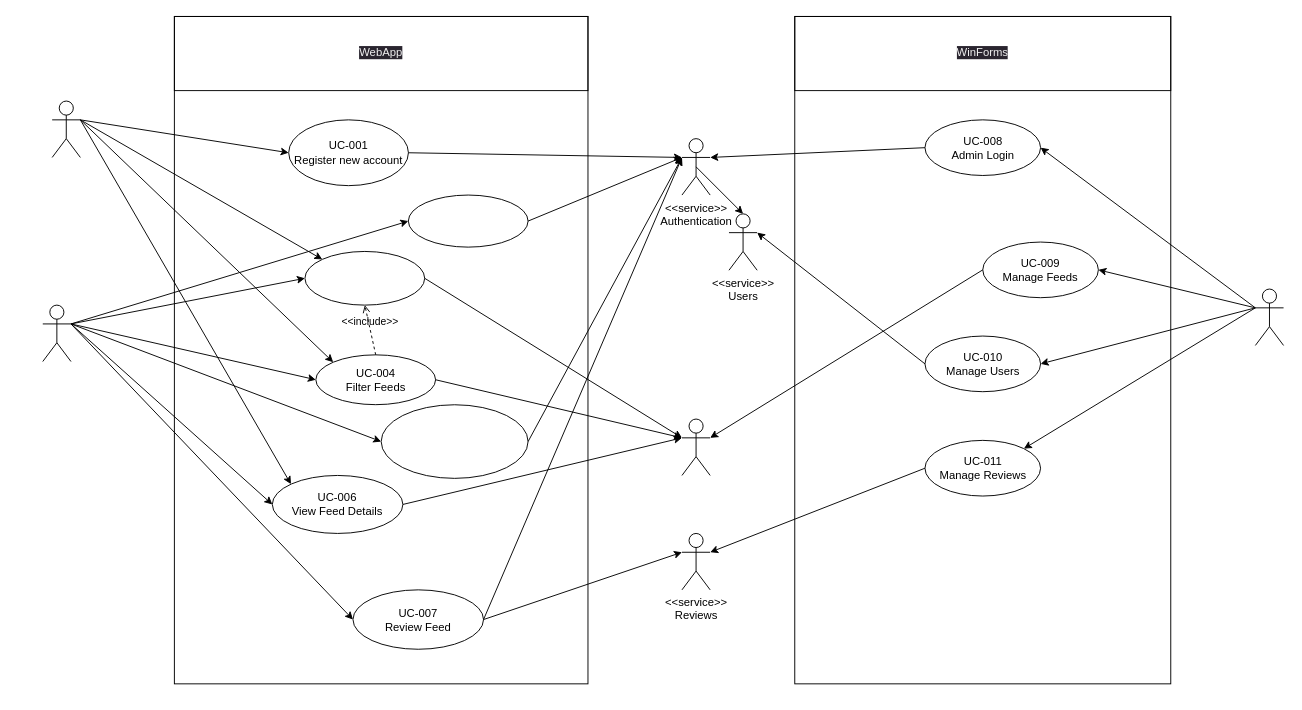
The diagram is 1302 pixels wide and 710 high, and some of its shapes have lost their labels. The centre of each missing label's shape, as x and y in pixels:
<<service>> Feeds: point 695,446
Admin: point 1269,316
Registered User: point 56,333
UC-002 Login: point 467,220
UC-003 Search Feeds: point 364,278
UC-005 Generate Recommendations: point 454,441
UnregisteredUser: point 65,128
